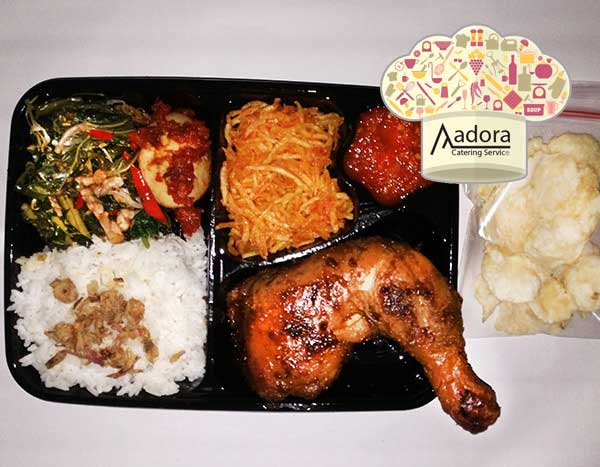buah_sayur_lainnya: (39, 121, 102, 223)
buah_sayur_vitA: (365, 118, 405, 183)
daging: (252, 271, 436, 328)
makanan_berpati: (32, 266, 194, 379), (246, 115, 333, 223)
telur: (153, 131, 199, 200)
